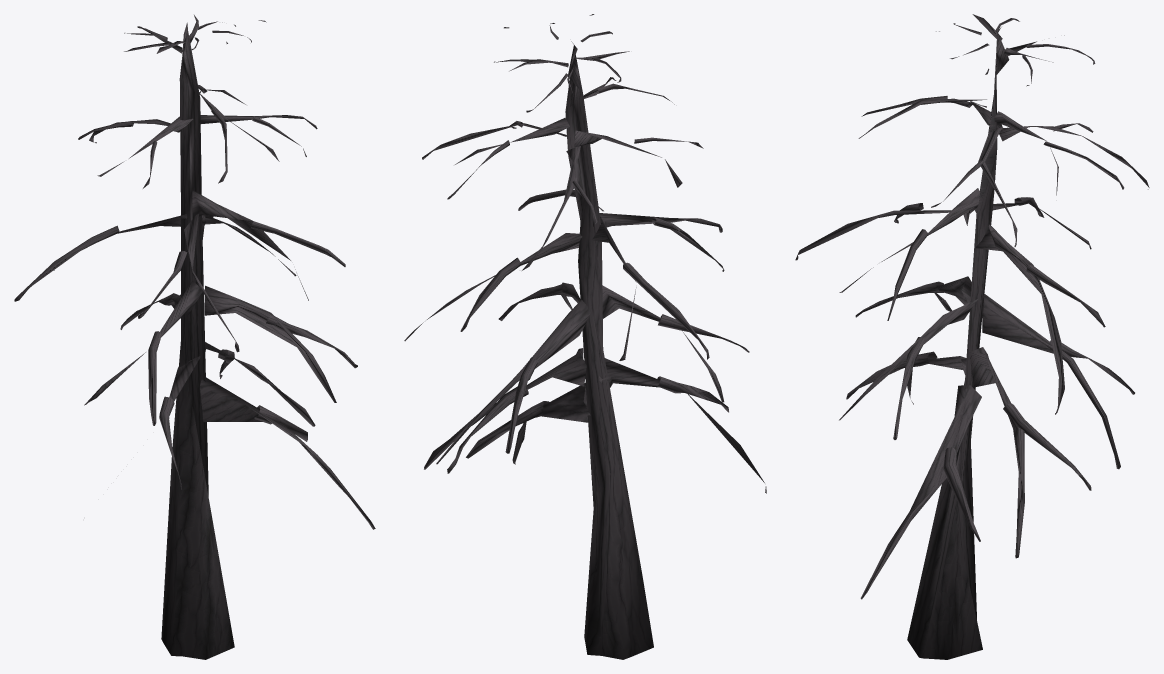
File: DeadTree_5@lod.gltf
3 renders of one model, left to right at view 1: azimuth 30°, elevation 25°; view 2: azimuth 150°, elevation 25°; view 3: azimuth 270°, elevation 25°, orthographic. The views are drawn at different scales.
Visible parts, largest first — view 1: DeadTree_5; view 2: DeadTree_5; view 3: DeadTree_5.
Part boxes in pixels (x1,y1,x2,y2): DeadTree_5: (14, 15, 375, 659); DeadTree_5: (404, 14, 766, 659); DeadTree_5: (795, 14, 1149, 659).
Bounding box in the file's own units: 8.33 × 16.43 × 8.41.
1 material, 1 textured.
